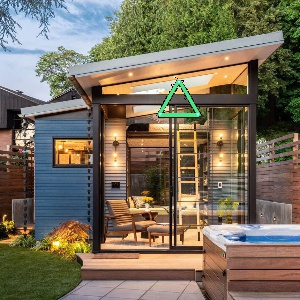triangle: (154, 76, 203, 120)
